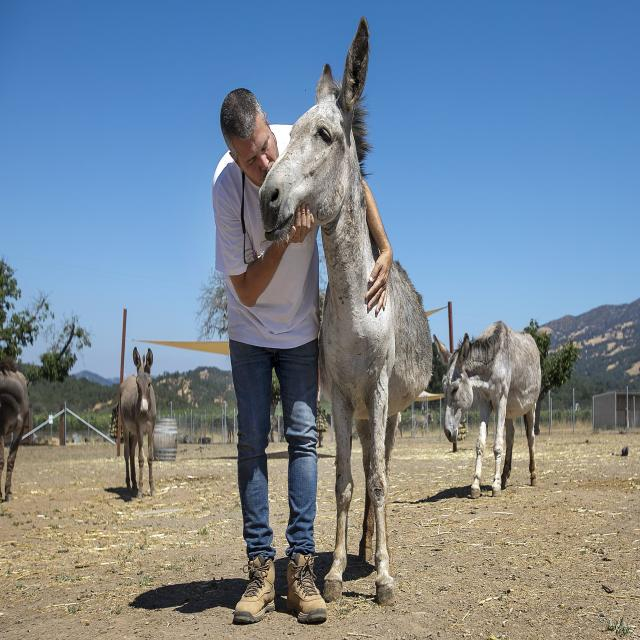Donkey: (244, 12, 430, 604), (442, 308, 554, 501), (101, 334, 175, 508)
